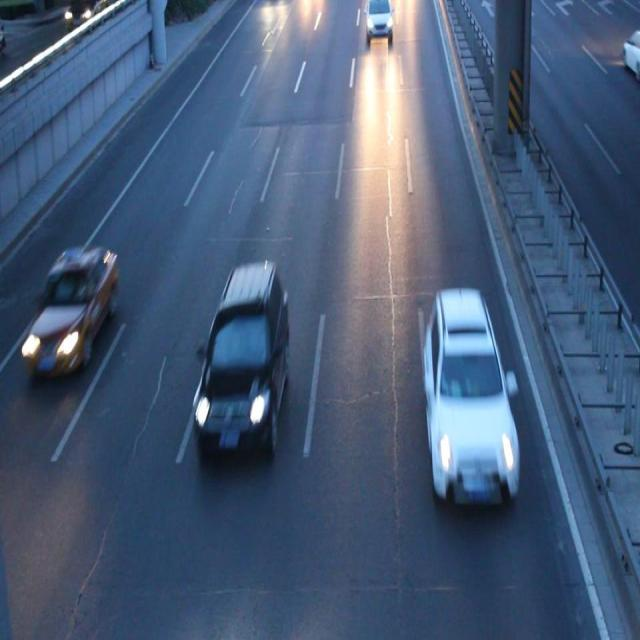car: (422, 290, 518, 500), (193, 260, 289, 452), (20, 245, 118, 377), (366, 1, 392, 44)
